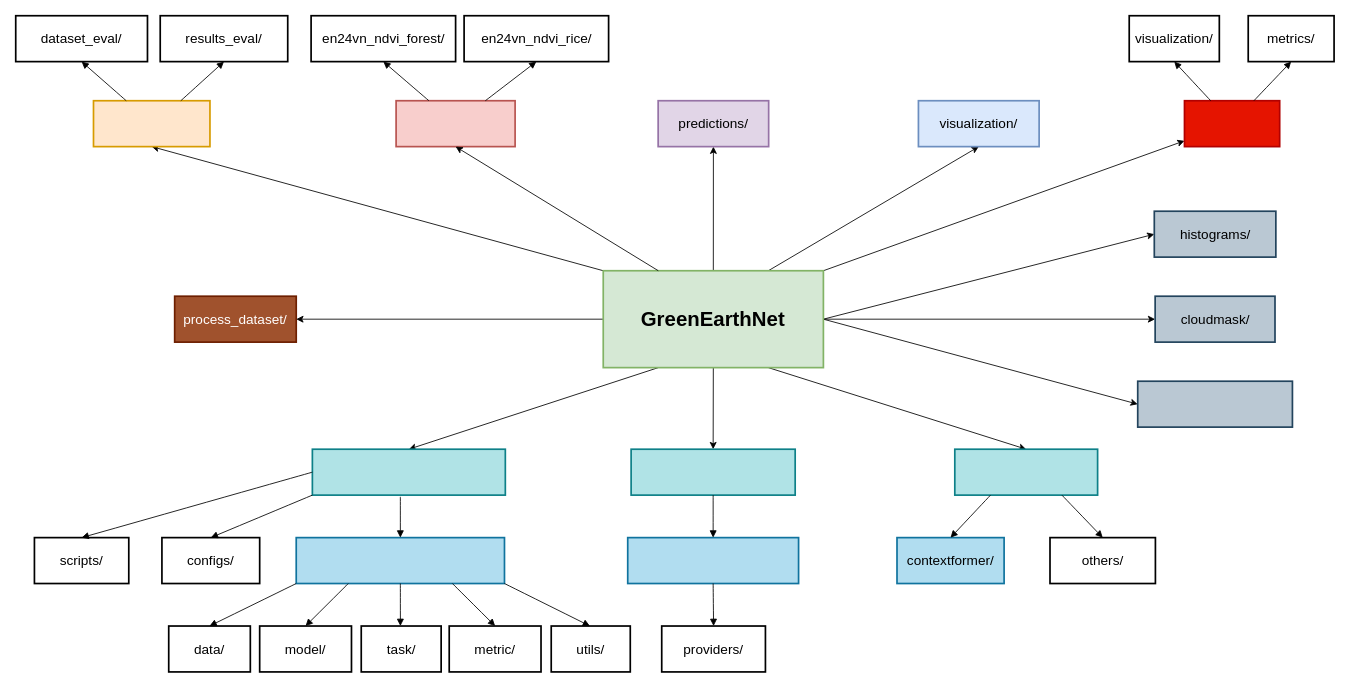
The diagram is 1349 pixels wide and 687 high, and some of its shapes have lost their labels. The shapes that lost their labels are listed below. From the top down, each one's centre as x and y in pixels, then its label:
At point 151,123: "evaluation/".
At point 455,123: "experiments/".
At point 1231,123: "results/".
At point 1214,404: "model_pixelwise/".
At point 408,472: "earthnetmodelspytorch/".
At point 713,472: "earthnetminicuber/".
At point 1026,472: "model_configs/".
At point 400,560: "earthnet_models_pytorch/".
At point 712,560: "earthnet_minicuber/".
